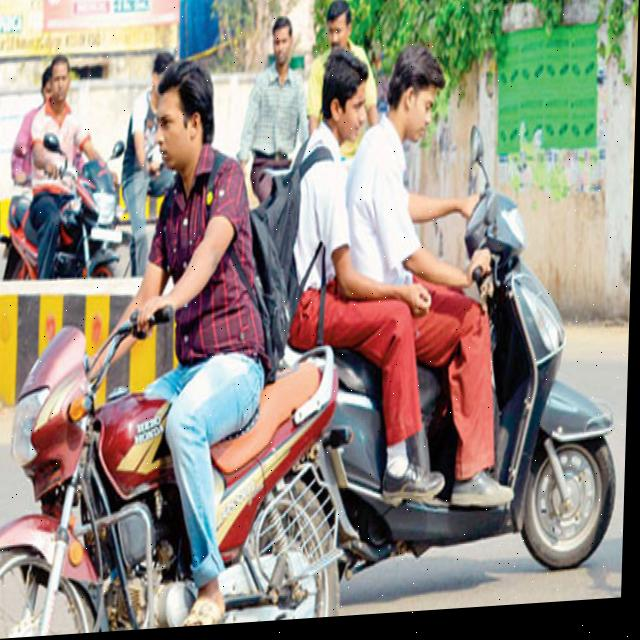without helmet: (150, 52, 228, 190), (381, 42, 446, 156), (316, 35, 375, 158), (47, 39, 76, 119)
